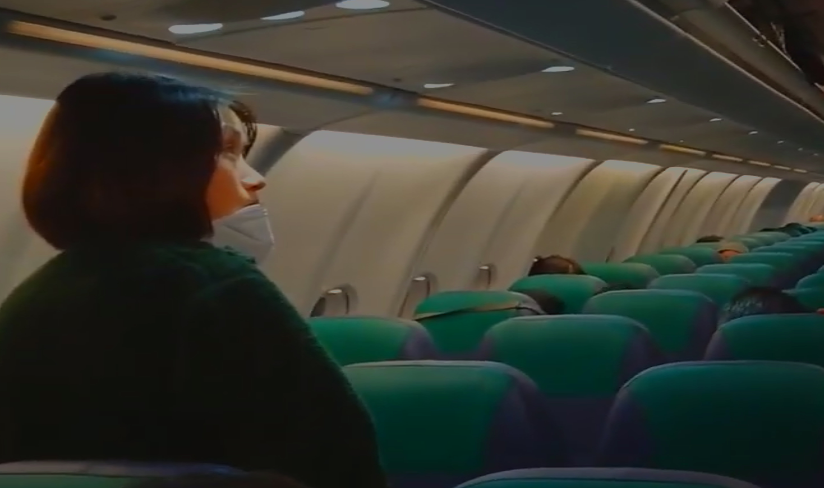mask_weared_incorrect: (123, 68, 279, 265)
